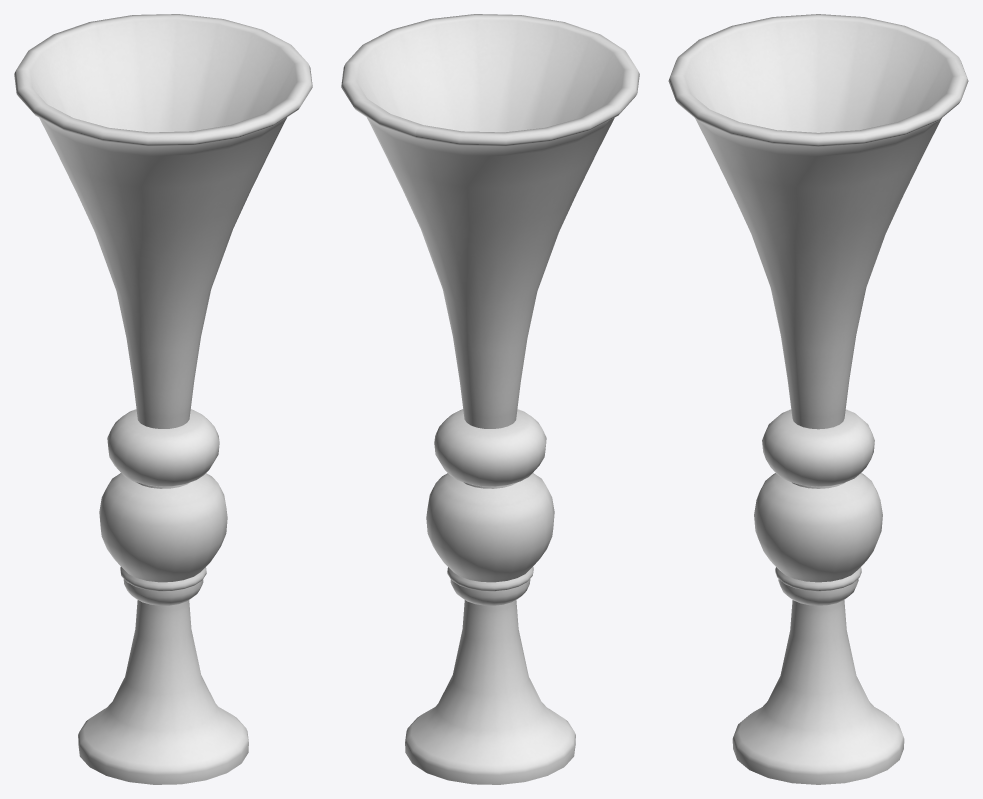
The model's file is DecorStandPot03.FBX.
The picture shows the model from 3 angles, left to right: view 1: azimuth 30°, elevation 25°; view 2: azimuth 150°, elevation 25°; view 3: azimuth 270°, elevation 25°; orthographic projection.
Parts seen in each view (by area): view 1: DecorStandPot03; view 2: DecorStandPot03; view 3: DecorStandPot03.
Part boxes in pixels (x1,y1,x2,y2): DecorStandPot03: [14, 14, 312, 784]; DecorStandPot03: [341, 14, 639, 784]; DecorStandPot03: [668, 14, 968, 784].
Size of what is drawn, in the model's own units: 0.2463 by 0.6097 by 0.2463.
